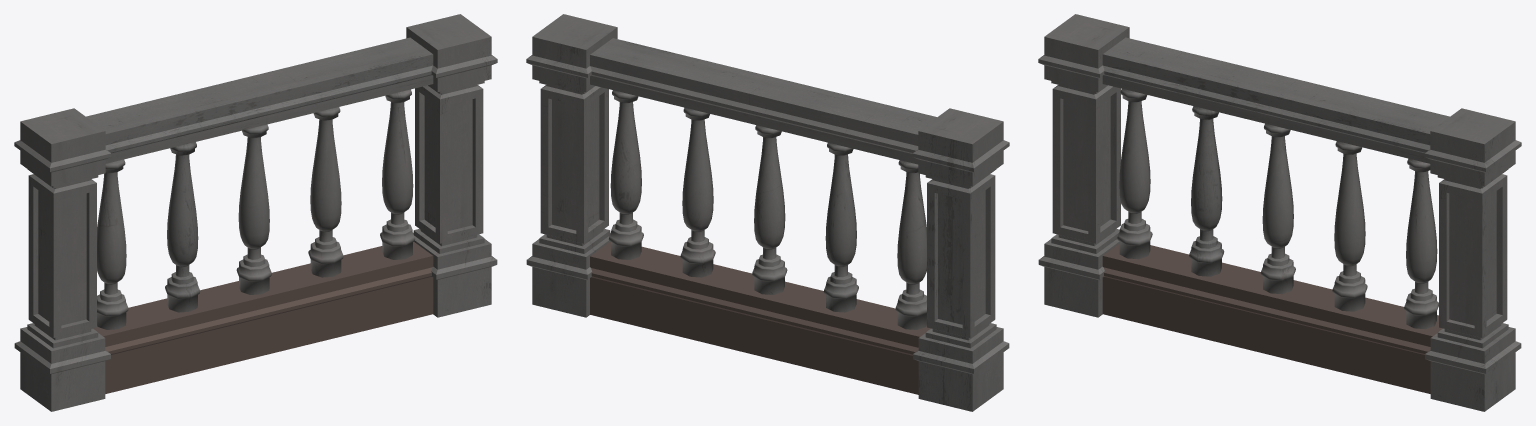
Rendered from SK4 RAILING SHORT.fbx.
3 renders of one model, left to right at view 1: azimuth 30°, elevation 25°; view 2: azimuth 150°, elevation 25°; view 3: azimuth 330°, elevation 25°, orthographic.
Parts seen in each view (by area): view 1: SK4 RAILING SHORT.001; view 2: SK4 RAILING SHORT.001; view 3: SK4 RAILING SHORT.001.
Boxes of the visible parts, left/top/right/bottom form: SK4 RAILING SHORT.001: left=14, top=14, right=497, bottom=411; SK4 RAILING SHORT.001: left=526, top=14, right=1009, bottom=411; SK4 RAILING SHORT.001: left=1038, top=14, right=1521, bottom=411.
Bounding box in the file's own units: 199 × 114 × 27.43.
